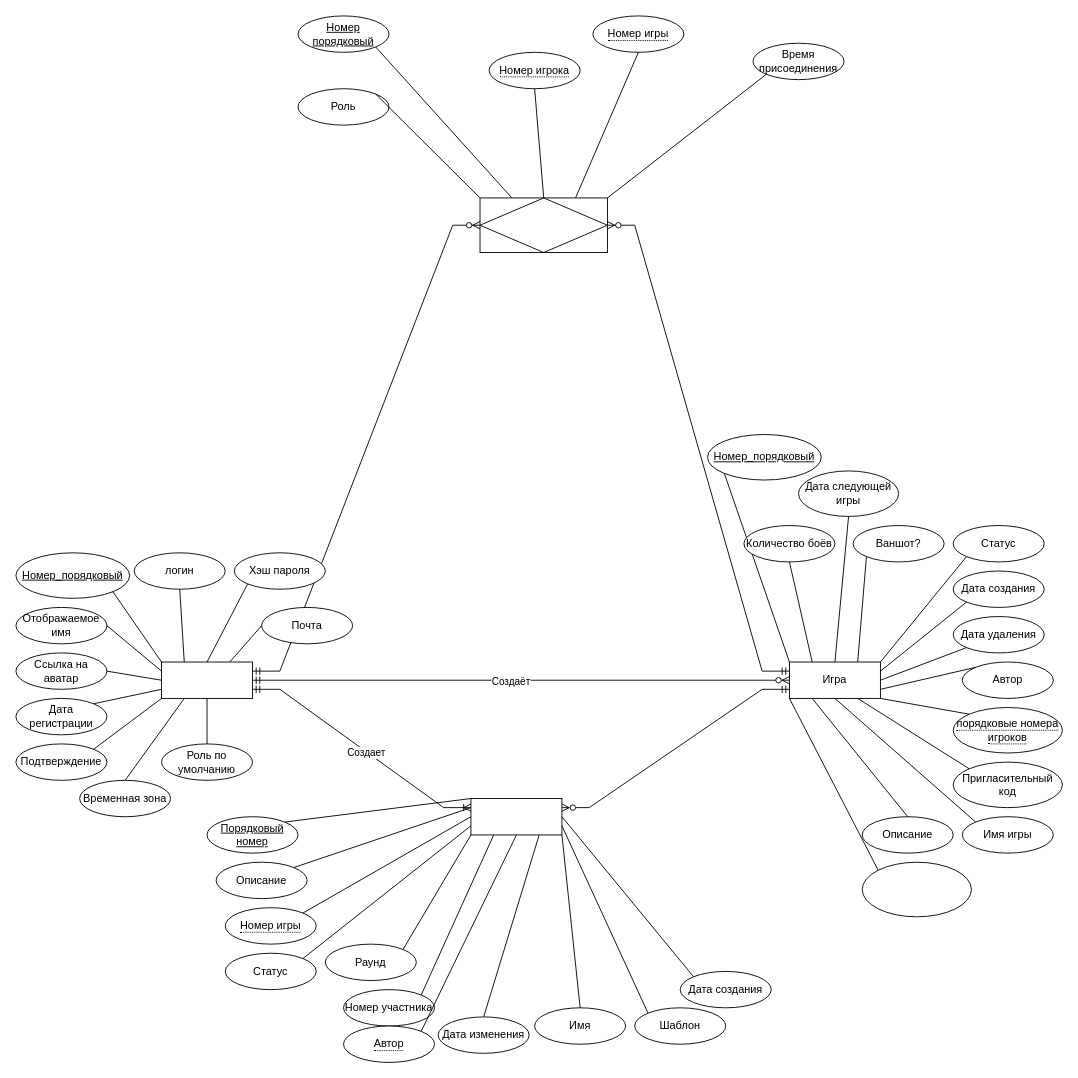
Some shapes in this 1078 by 1078 pixel diagram are drawn without their labels. The shapes that lost their labels are listed below. From the top down, each one's centre as x and y in pixels, then its label:
the point at 543,225: Игрок участвует в игре
the point at 207,679: Игрок
the point at 516,816: Бой
the point at 916,889: Максимальное количество игроков
